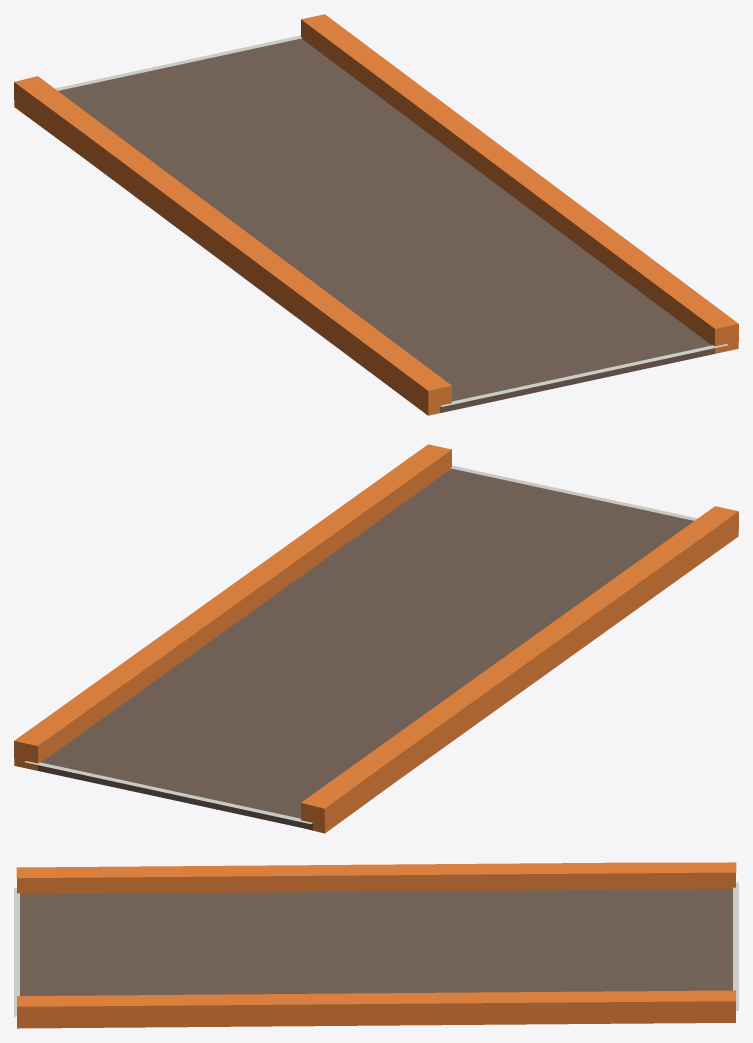
The model's file is SM_MP_Film_A_4_0.fbx.
The picture shows the model from 3 angles, top to bottom: view 1: azimuth 30°, elevation 25°; view 2: azimuth 150°, elevation 25°; view 3: azimuth 270°, elevation 25°; orthographic projection. The views are drawn at different scales.
Visible parts, largest first — view 1: SM_MP_Film_A_4_0; view 2: SM_MP_Film_A_4_0; view 3: SM_MP_Film_A_4_0.
Boxes of the visible parts, x1,y1,x2,y2 form: SM_MP_Film_A_4_0: (14, 14, 738, 415); SM_MP_Film_A_4_0: (14, 444, 738, 833); SM_MP_Film_A_4_0: (14, 862, 738, 1028).
Size of what is drawn, in the model's own units: 260 by 605 by 31.75.
